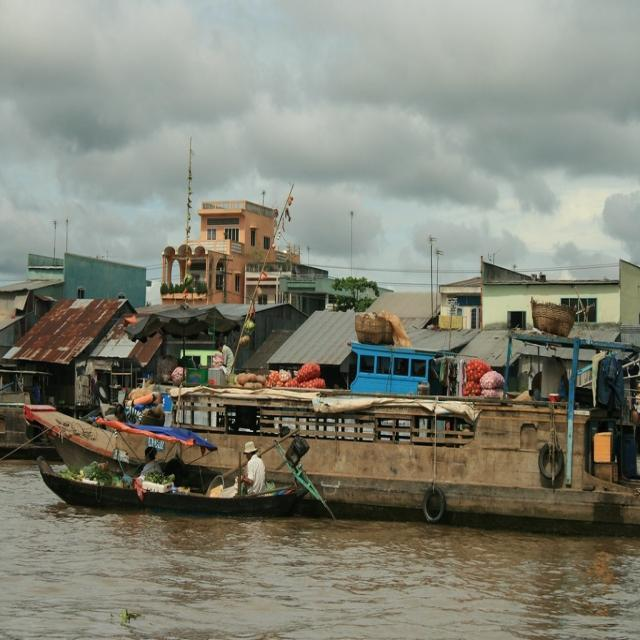boat: (17, 384, 632, 528), (30, 453, 302, 524), (75, 424, 158, 456)
